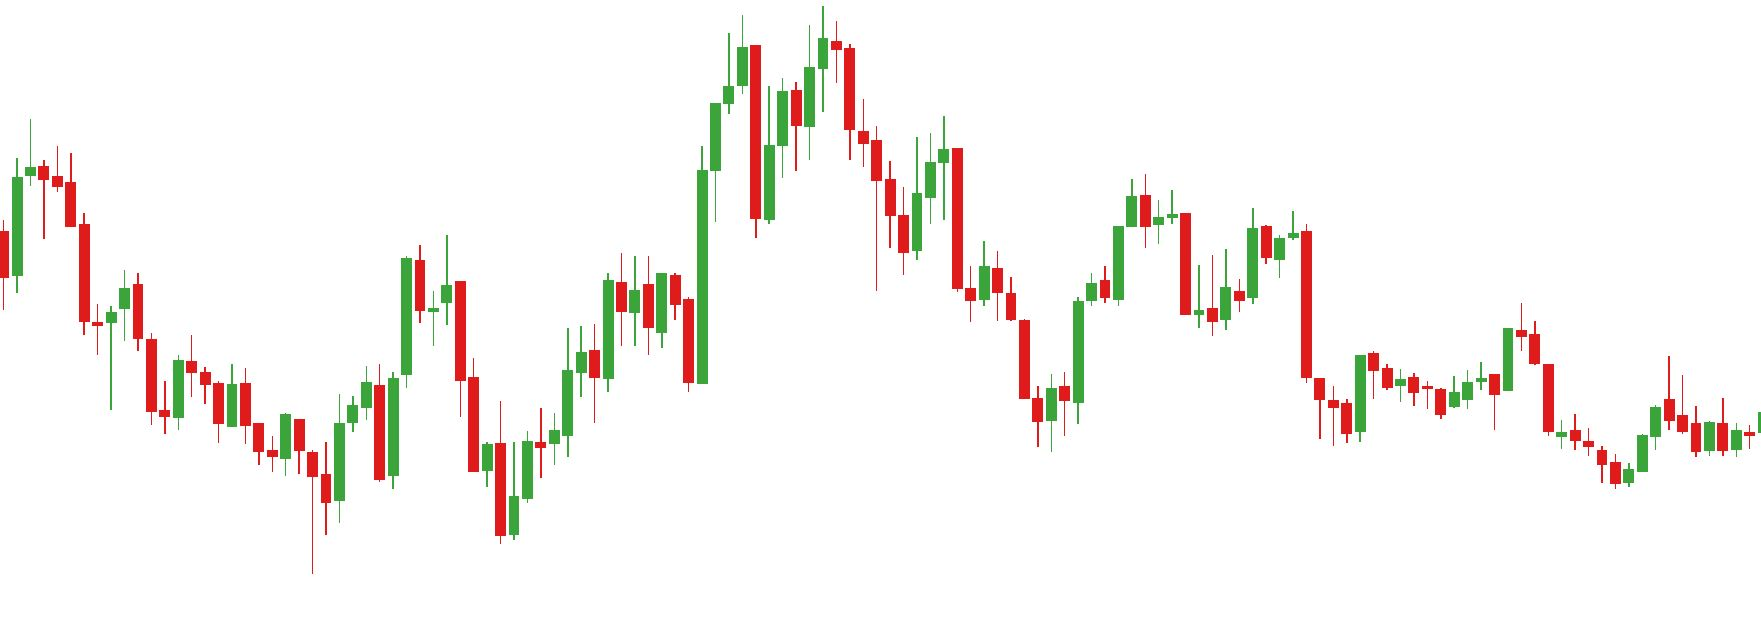sell: (109, 242, 427, 421), (1352, 301, 1541, 404), (734, 6, 842, 159)
